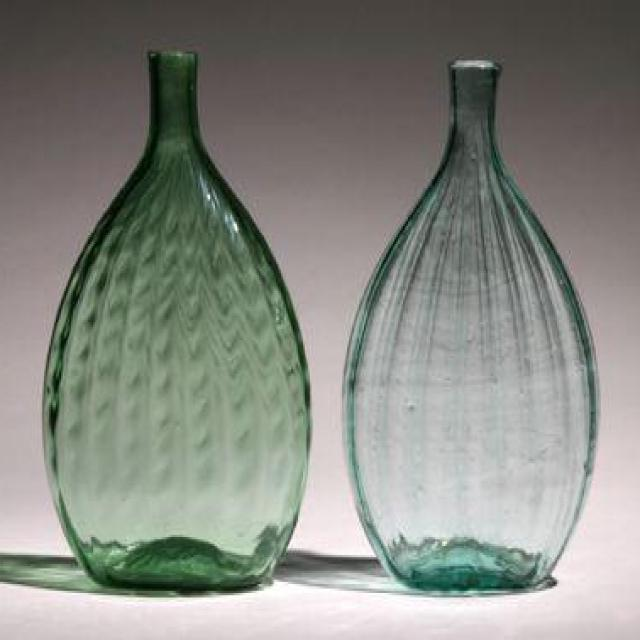glass: (39, 47, 310, 596), (341, 58, 597, 589)
